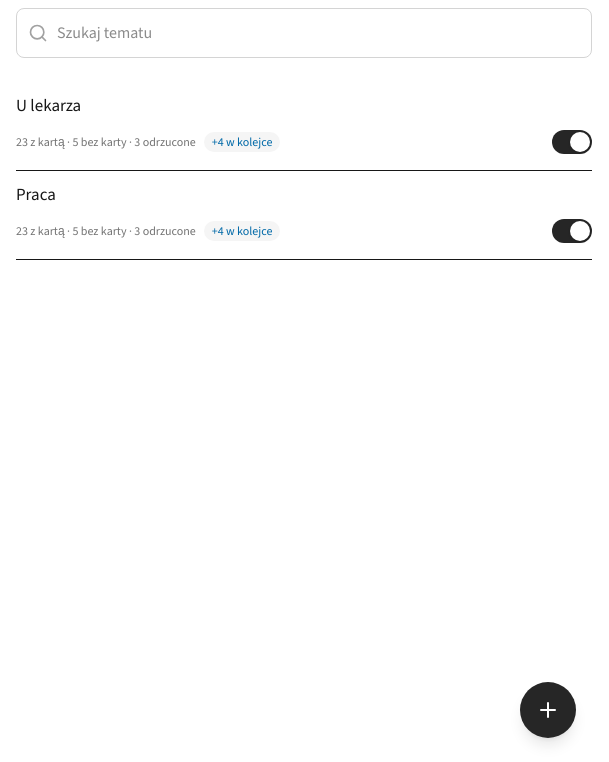
TopicsPage › filters the list by topic name, ignoring case
The width and height of the screenshot is (609, 762).
Expected: the link "Praca" is shown, left=16, top=183, right=56, bottom=206
Type "lek" into the field with placeholder "Szukaj tematu" at (304, 33), box left=16, top=8, right=592, bottom=58
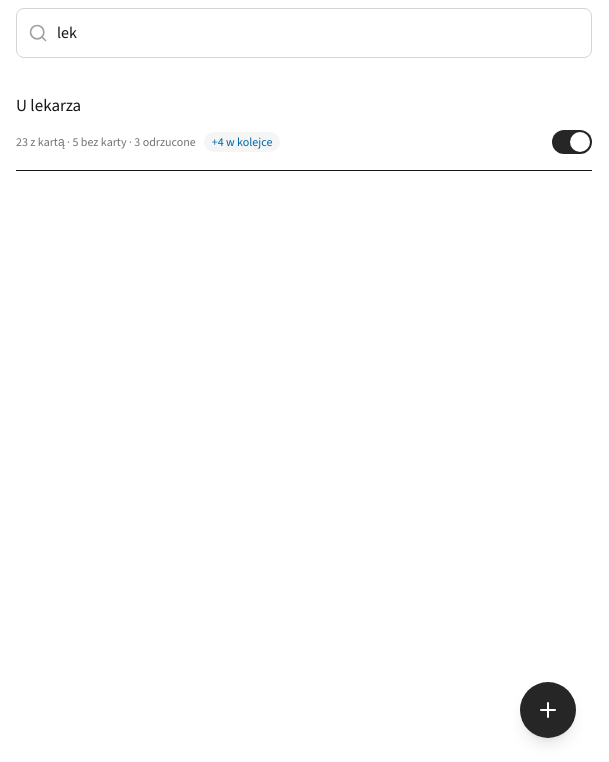
Expected: the link "U lekarza" is shown, left=16, top=94, right=81, bottom=117
Result: the link "Praca" is gone
